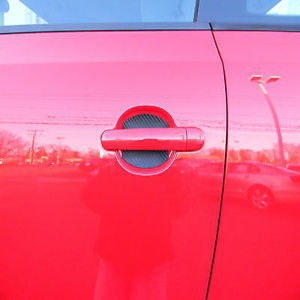door_scratch: (1, 93, 264, 131)
